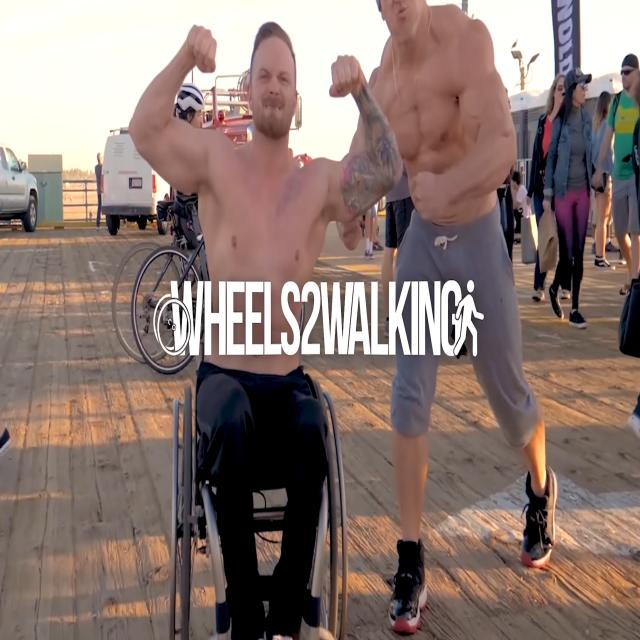wheelchairs: (172, 282, 350, 640)
